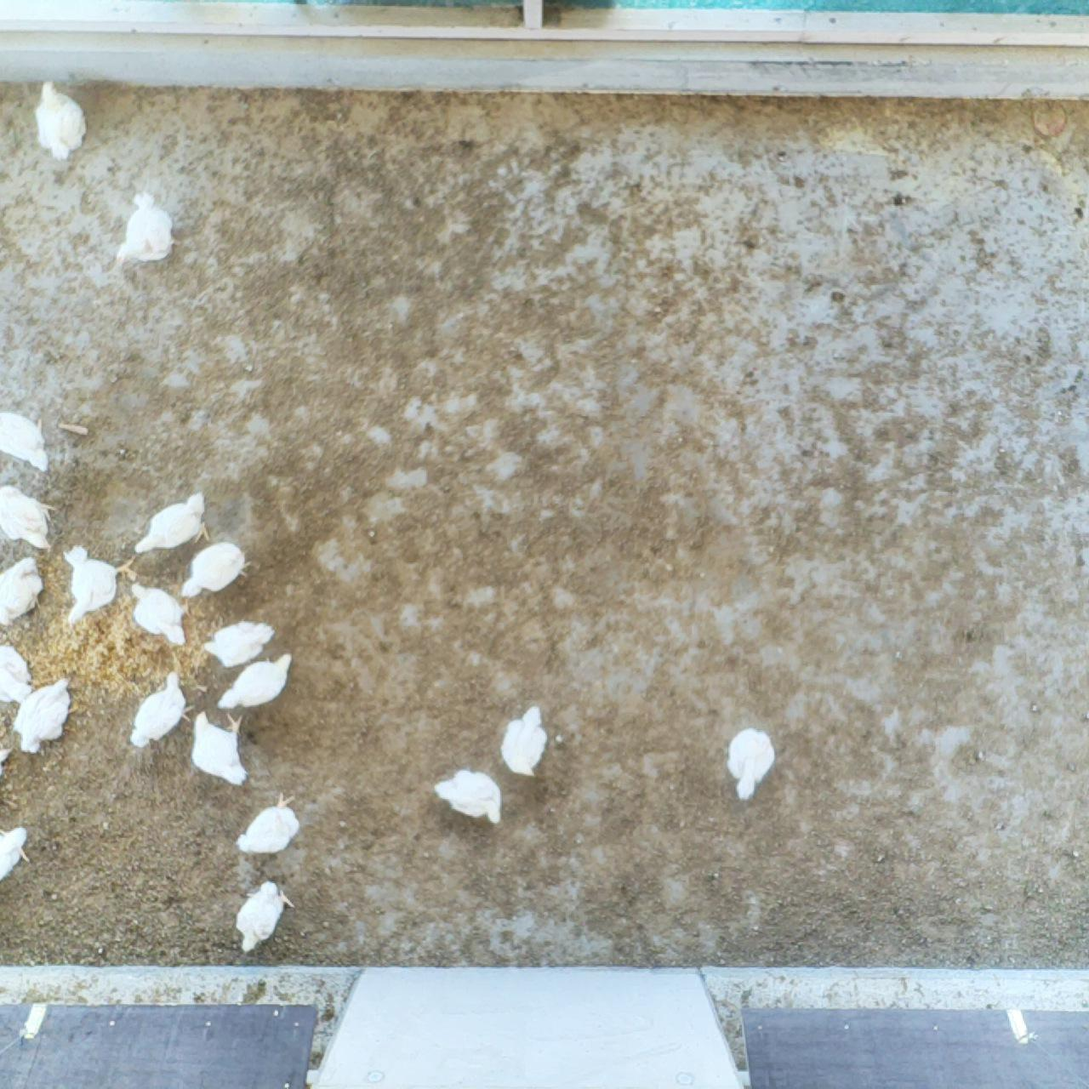chicken: (60, 543, 139, 631), (113, 190, 182, 272), (128, 669, 195, 753), (132, 489, 214, 556), (13, 672, 76, 756), (230, 877, 295, 956), (191, 707, 251, 791), (32, 78, 90, 163), (214, 651, 295, 710), (432, 765, 505, 829), (178, 539, 256, 598), (232, 792, 302, 857), (723, 724, 780, 803), (128, 579, 192, 648), (498, 702, 550, 781), (200, 618, 278, 670), (0, 483, 56, 553), (0, 410, 53, 475), (0, 556, 45, 630), (0, 642, 36, 706), (0, 823, 32, 884)
